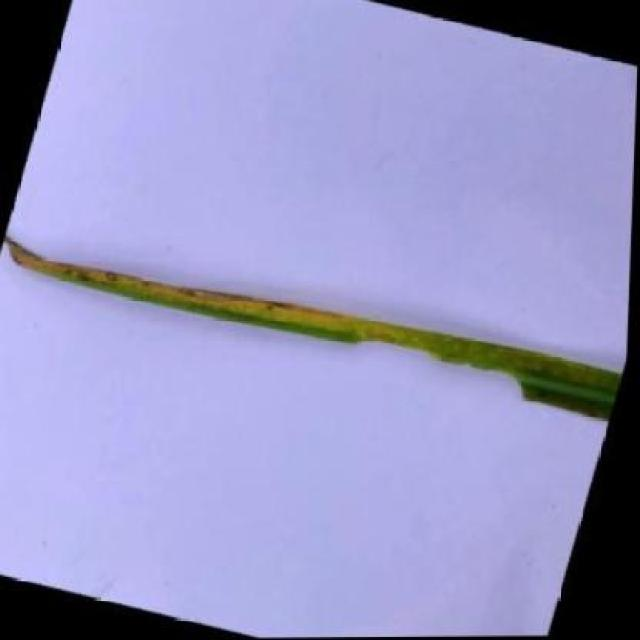Rice False Smut: (0, 216, 629, 429)
